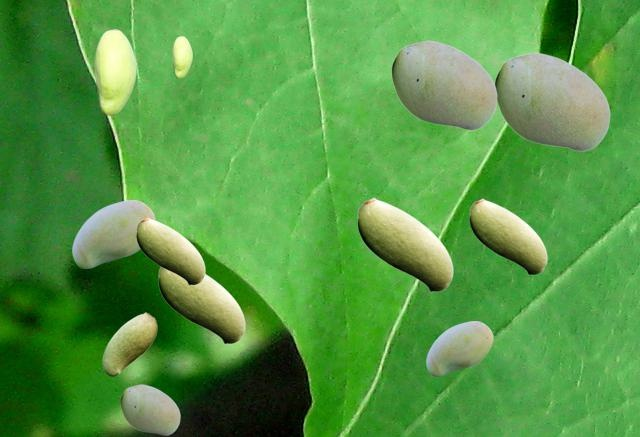green_mango: (494, 52, 609, 150), (391, 40, 496, 129), (357, 197, 452, 291), (158, 267, 244, 343), (469, 198, 546, 274), (72, 200, 154, 267), (136, 217, 204, 284), (426, 321, 492, 375), (94, 29, 135, 114), (102, 312, 156, 375), (120, 384, 179, 434), (172, 36, 191, 77)
